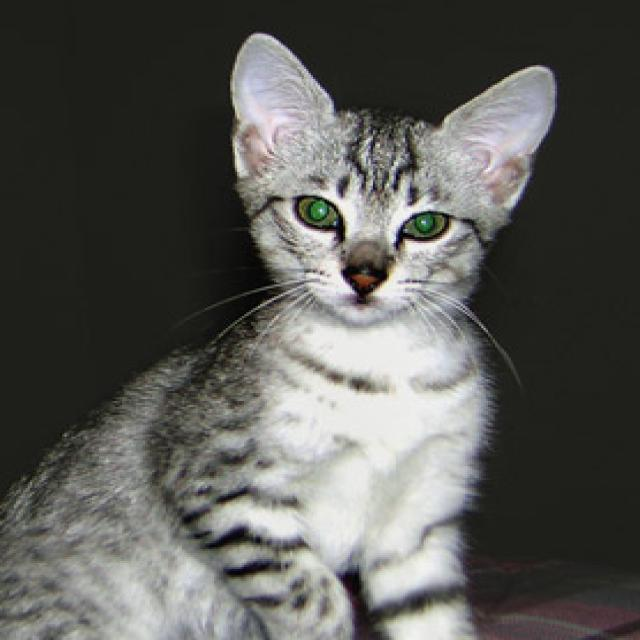Egyptian Mau: (0, 27, 564, 640)
